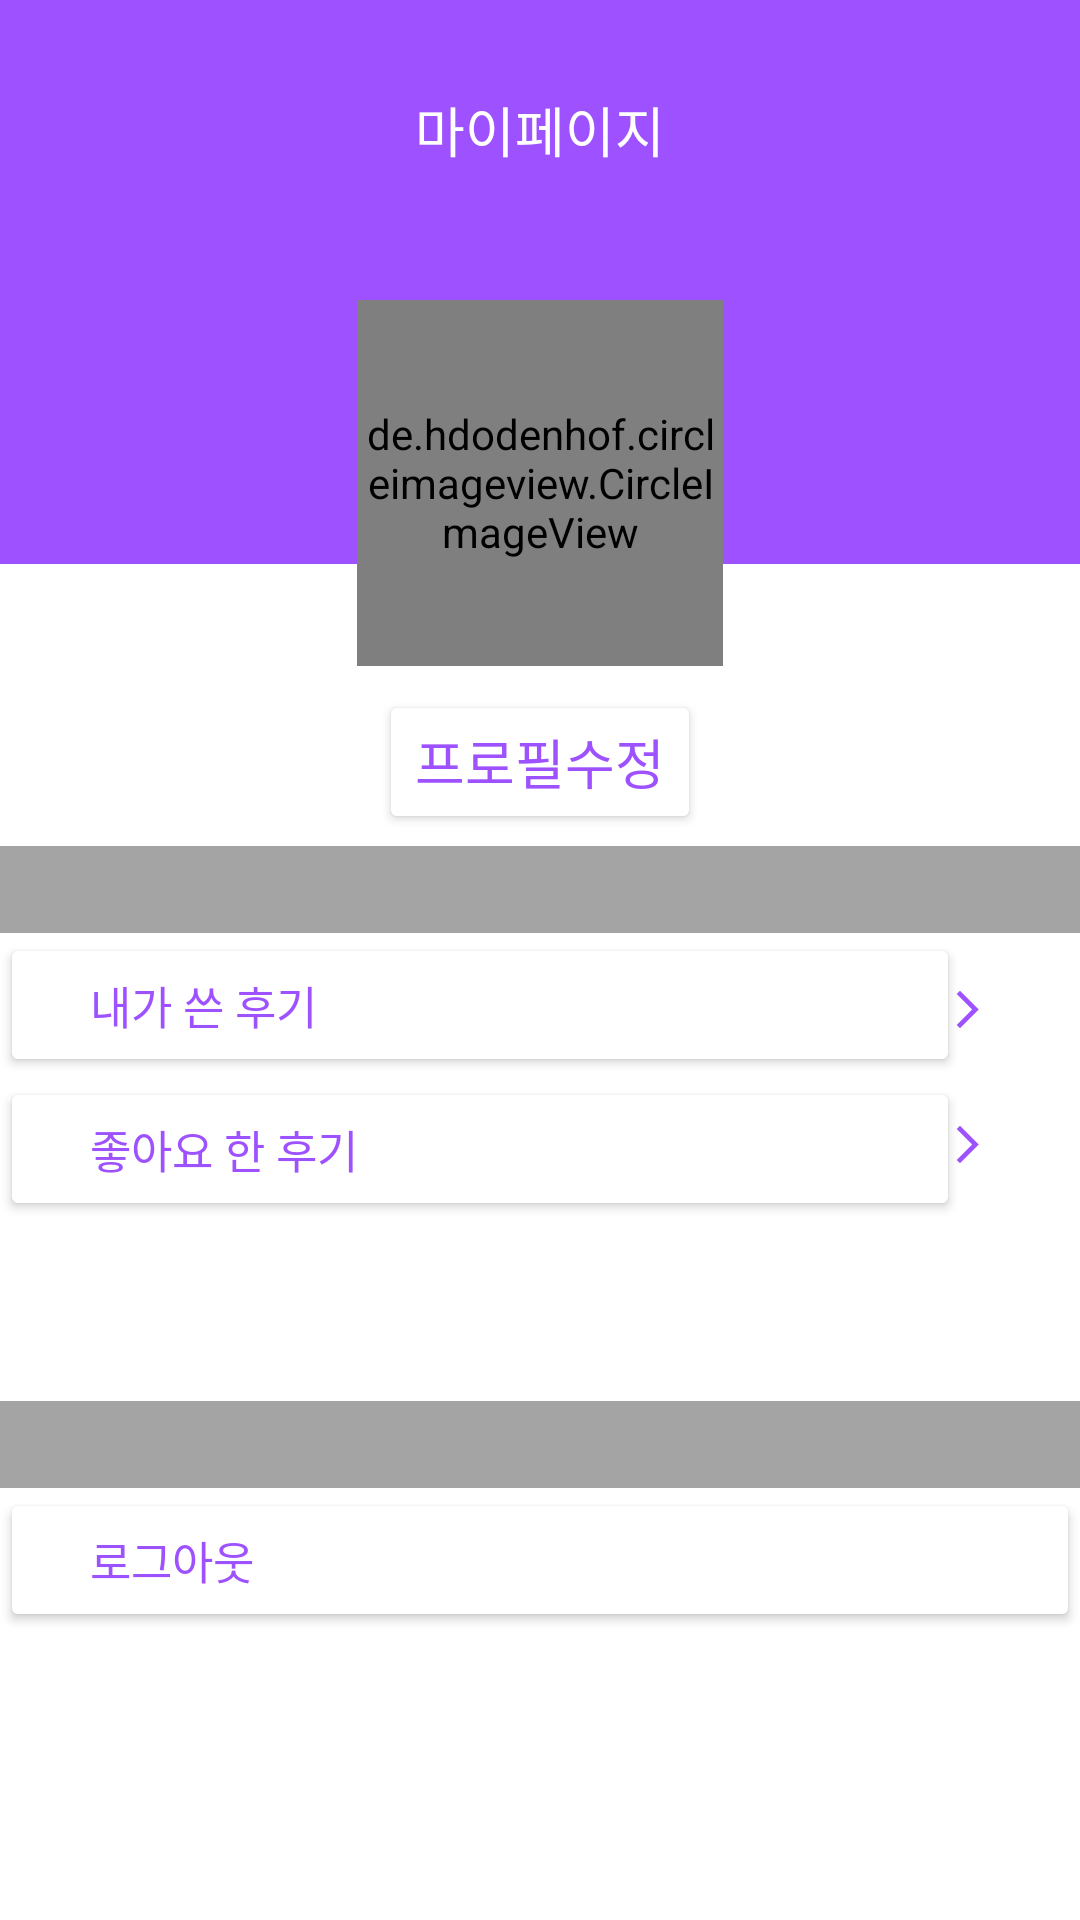

Screen size 1080 x 1920. Icon name, then its box in pixels as (x1, y1, x2, y2):
forward arrow: (957, 991, 979, 1028), (957, 1126, 979, 1163)
